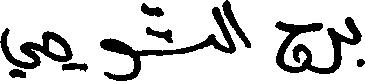X: (275, 16, 320, 78), (0, 23, 38, 80), (100, 33, 139, 80), (225, 0, 248, 58), (43, 26, 70, 75), (322, 19, 339, 78), (347, 12, 364, 71), (212, 0, 223, 56), (207, 30, 210, 51)
